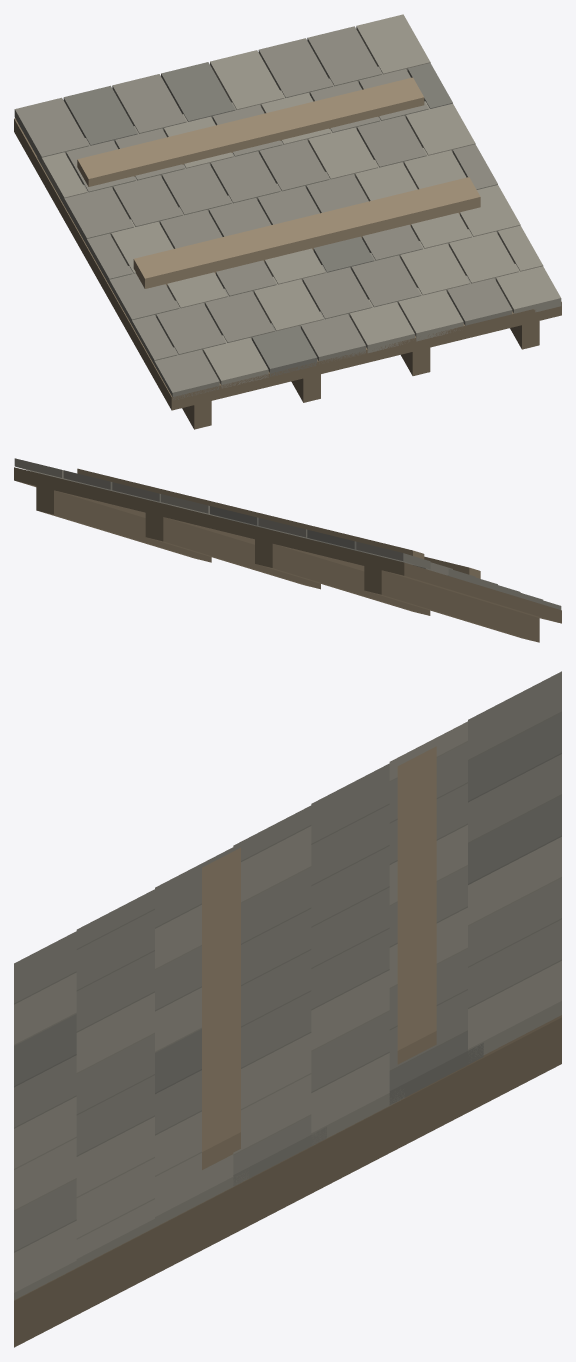
File: env_roof_shingle_fine_b_v02_cross_slope_repairs.glb
3 renders of one model, top to bottom at view 1: azimuth 30°, elevation 25°; view 2: azimuth 150°, elevation 25°; view 3: azimuth 270°, elevation 25°, orthographic. The views are drawn at different scales.
Visible parts, largest first — view 1: material_4, material_5, material_3, material_6, material_2; view 2: material_2, material_4, material_3, material_5, material_6; view 3: material_4, material_5, material_2, material_3, material_6.
Part boxes in pixels (x1,y1,x2,y2): material_4: (14,26,512,399); material_5: (37,14,561,388); material_3: (77,77,480,288); material_6: (63,62,452,376); material_2: (14,118,561,429); material_2: (14,467,561,642); material_4: (63,470,561,609); material_3: (77,468,480,578); material_5: (14,458,452,575); material_6: (210,506,371,554); material_4: (14,671,561,1252); material_5: (14,721,561,1300); material_2: (14,1015,561,1347); material_3: (202,746,436,1169); material_6: (14,713,561,1105).
Size of the model in its own units: 2 by 1.03 by 1.4.
